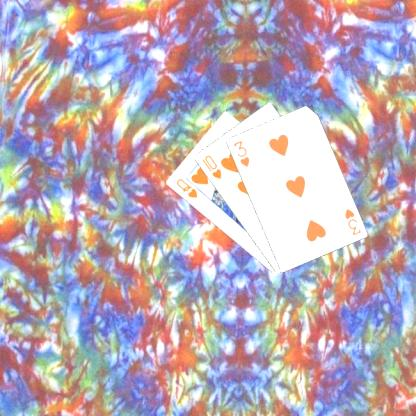10H: (198, 152, 223, 180)
3H: (341, 205, 362, 237), (230, 137, 251, 168)
QH: (173, 175, 199, 200)
